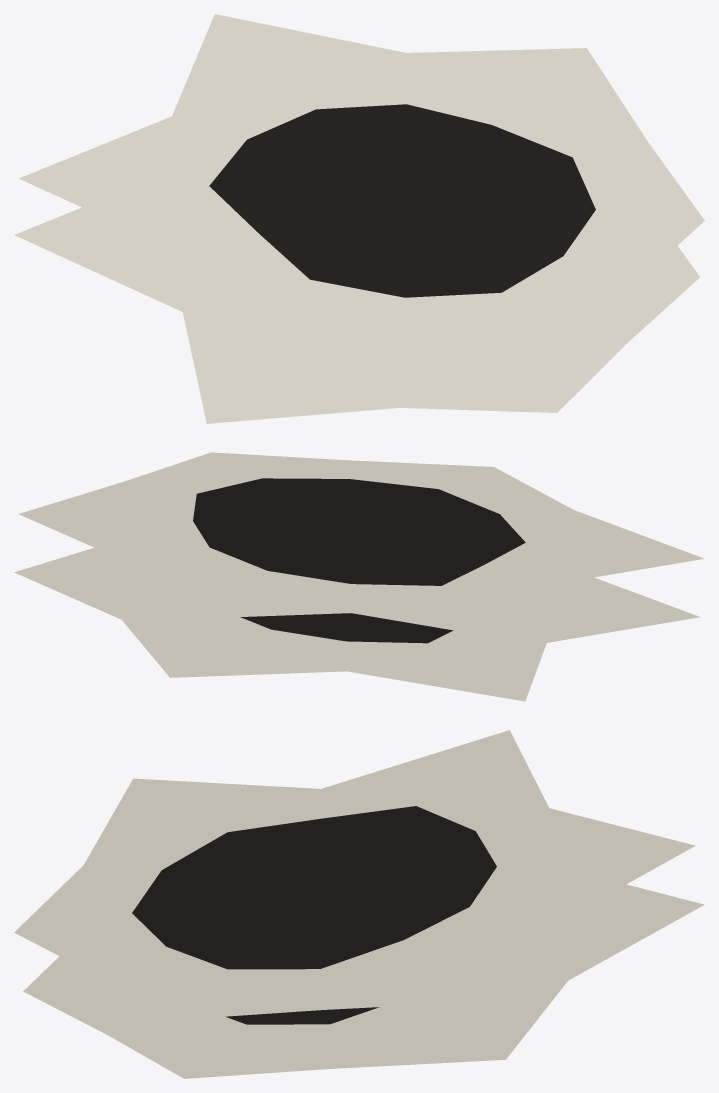
Rendered from hole_stand_07.obj.
3 views of the same model, one above another, from view 1: azimuth 30°, elevation 25°; view 2: azimuth 150°, elevation 25°; view 3: azimuth 270°, elevation 25° (orthographic). The views are drawn at different scales.
Bounding box in the file's own units: 0.0524 × 0.0132 × 0.0568.
